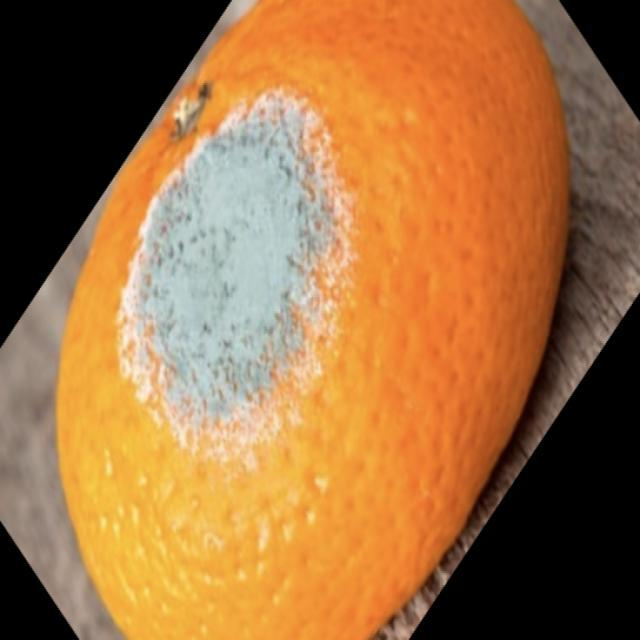sedikit-busuk: (58, 0, 566, 639), (119, 90, 348, 435)
